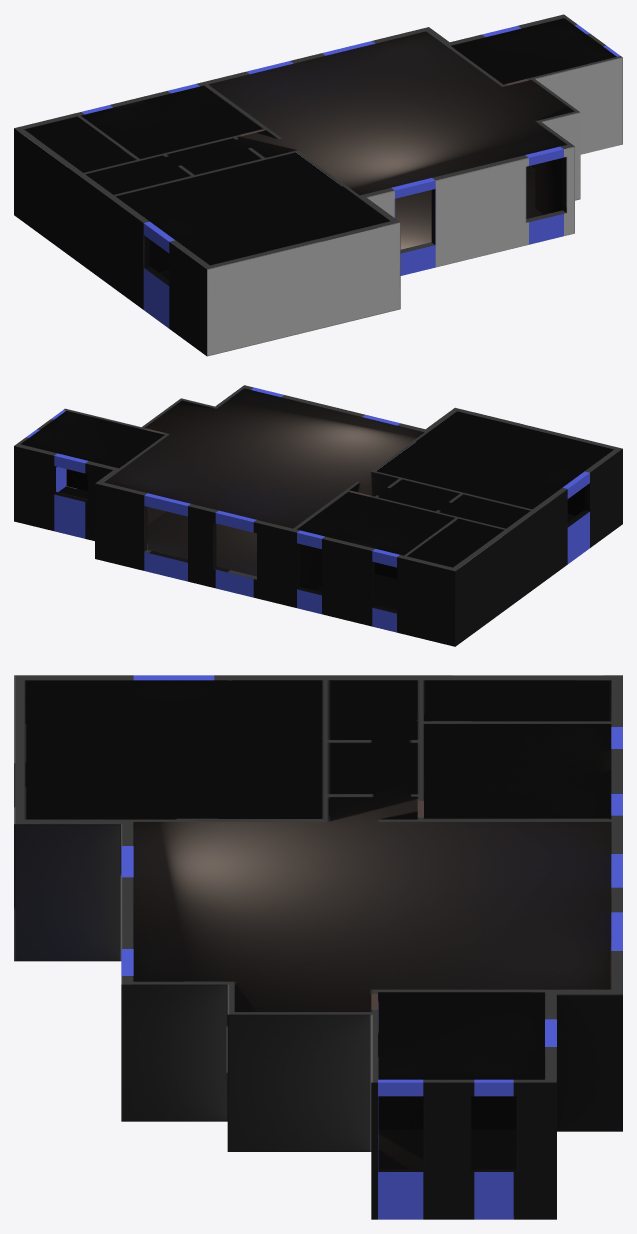
The model's file is structure.glb.
3 views of the same model, one above another, from view 1: azimuth 30°, elevation 25°; view 2: azimuth 150°, elevation 25°; view 3: azimuth 270°, elevation 25° (orthographic). The views are drawn at different scales.
Parts seen in each view (by area): view 1: Structure.001; view 2: Structure.001; view 3: Structure.001.
Part boxes in pixels (x1,y1,x2,y2): Structure.001: (14,14,622,356); Structure.001: (14,385,622,646); Structure.001: (14,675,622,1219).
Size of the model in its own units: 41.4 by 6.51 by 26.17.
Materials: 3 (1 with a texture image).
